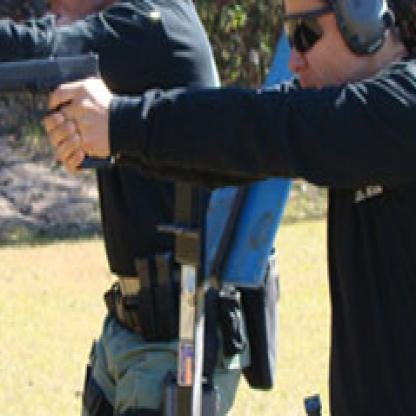gun: (0, 41, 112, 169)
